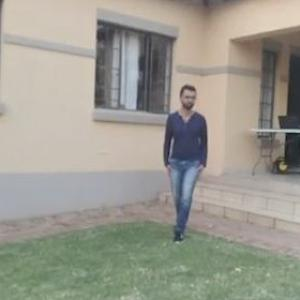follow: (162, 77, 210, 247)
